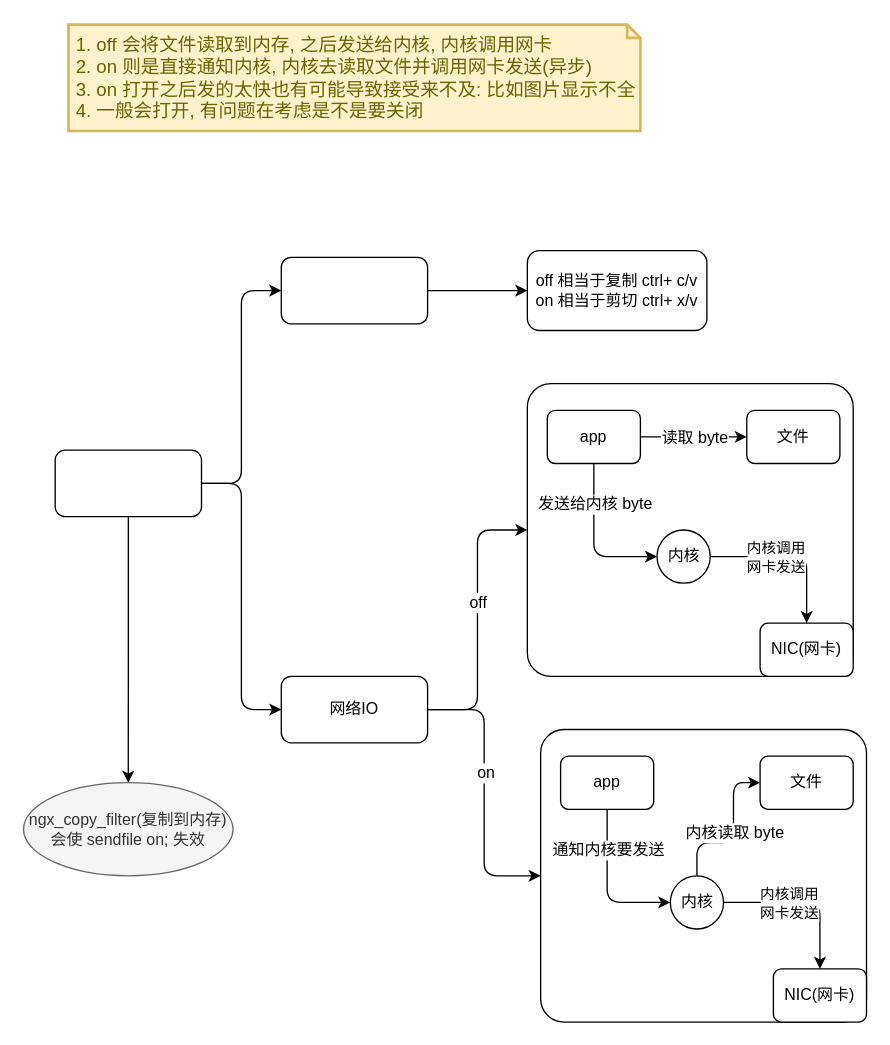
Image size: 890x1045. Some labels were removed from this diagram. The shapes that lost their labels are listed below. From the top down, each one's box as (x1, y1, x2, y2) in pixels, then its label:
(280, 256, 428, 324): 本地文件
(54, 449, 201, 517): sendfile
(526, 382, 853, 676): 读取文件二遍
(539, 728, 866, 1022): 读取文件一遍
